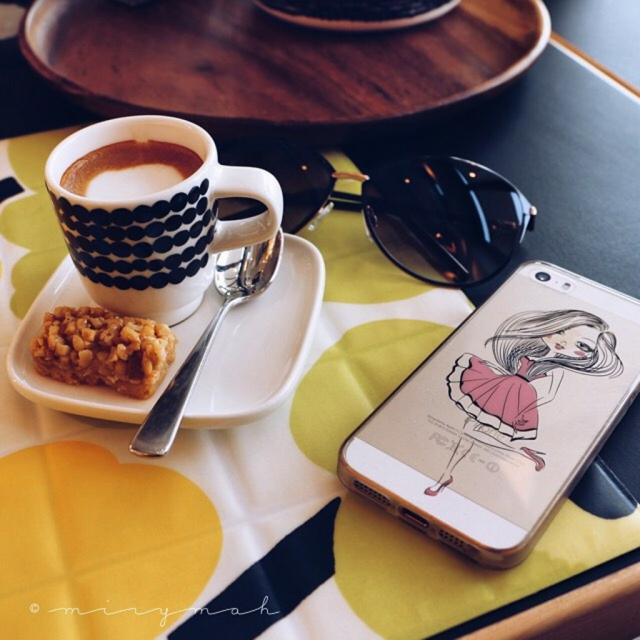Coffee: (63, 137, 204, 198)
Tea: (59, 141, 203, 199)
